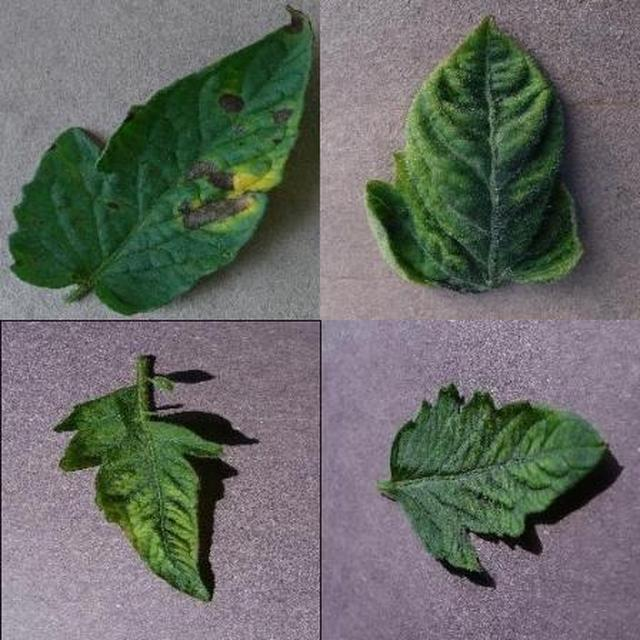Early Blight Leaf: (198, 220, 640, 640)
